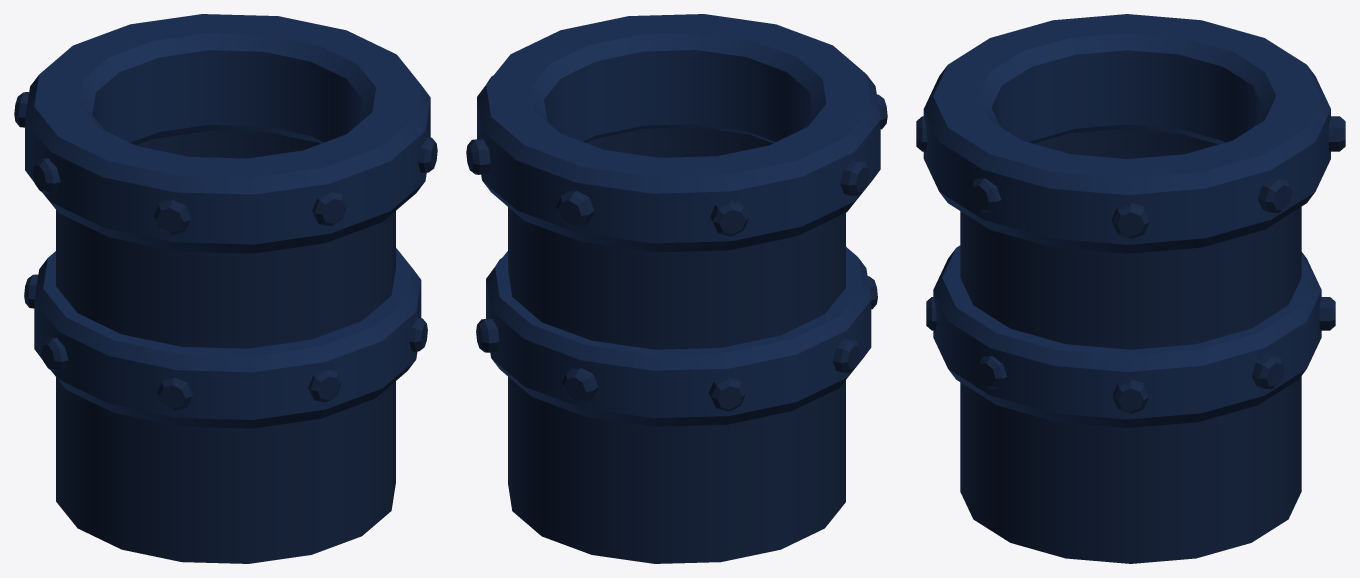
The model's file is Pipe_End.obj.
3 renders of one model, left to right at view 1: azimuth 30°, elevation 25°; view 2: azimuth 150°, elevation 25°; view 3: azimuth 270°, elevation 25°, orthographic.
Parts seen in each view (by area): view 1: Pipe_End_Cylinder.038; view 2: Pipe_End_Cylinder.038; view 3: Pipe_End_Cylinder.038.
Boxes of the visible parts, x1,y1,x2,y2 form: Pipe_End_Cylinder.038: (14,14,437,563); Pipe_End_Cylinder.038: (466,14,887,563); Pipe_End_Cylinder.038: (916,14,1345,563).
Size of the model in its own units: 2.18 by 2.22 by 2.18.
